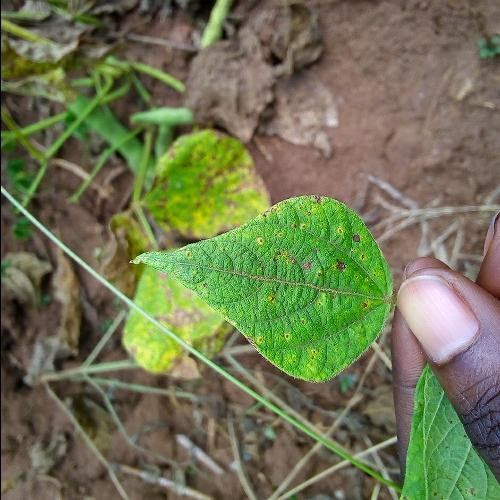hawar: (246, 193, 370, 322)
